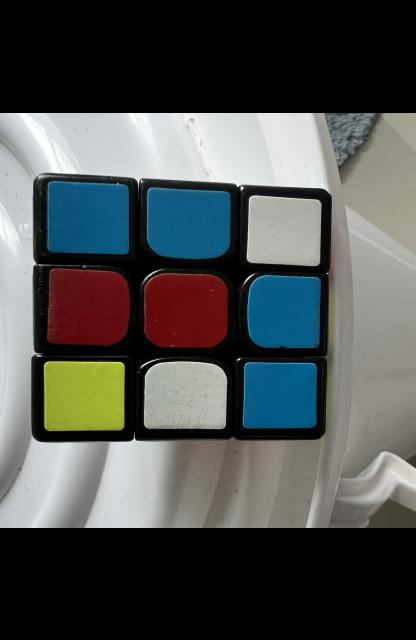Blue: (47, 180, 129, 254), (147, 187, 230, 258), (247, 273, 320, 347), (243, 361, 317, 427)
Red: (47, 267, 130, 345), (144, 272, 228, 347)
White: (144, 360, 227, 428), (247, 194, 322, 265)
Yellow: (44, 360, 124, 430)
